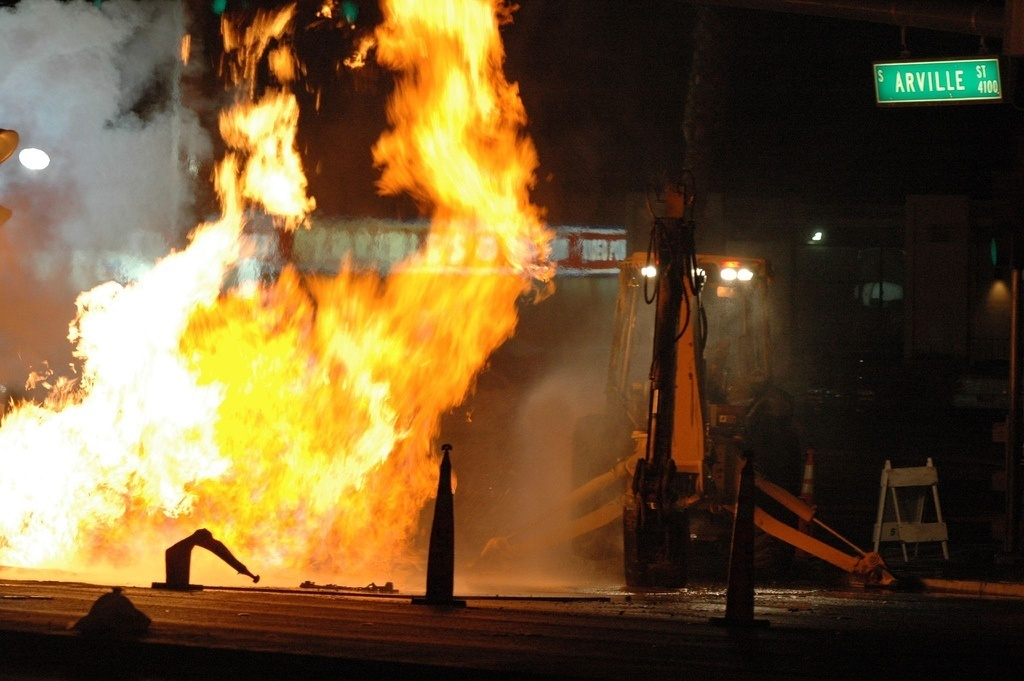fire: (8, 22, 588, 612)
